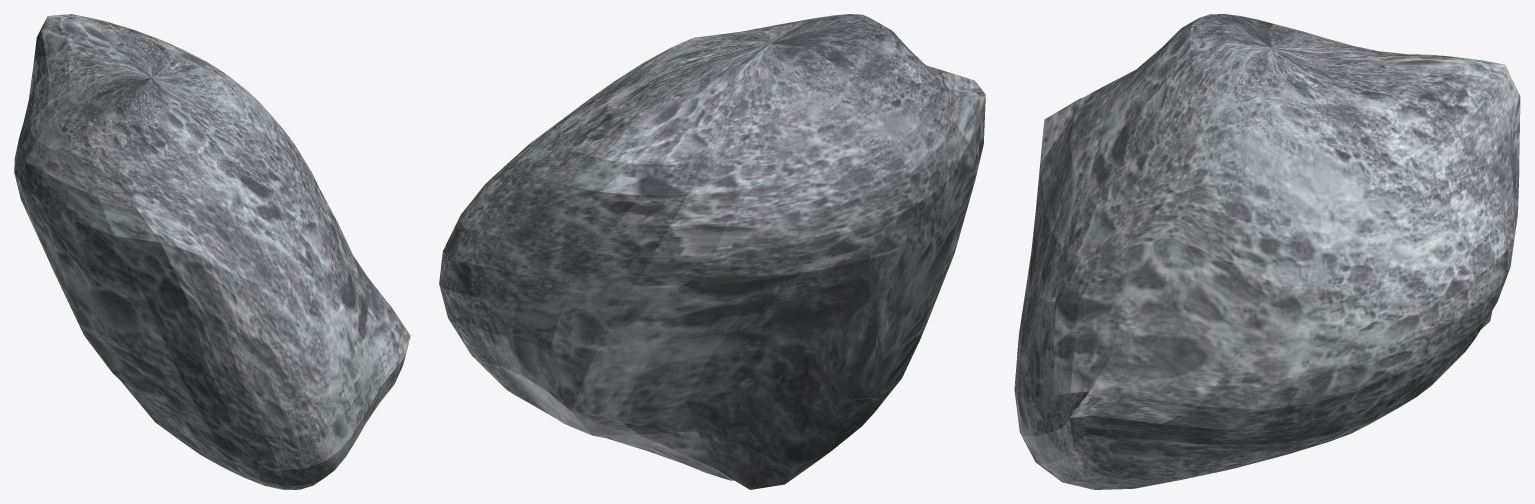
The model's file is rock4.glb.
3 views of the same model, side by side, from view 1: azimuth 30°, elevation 25°; view 2: azimuth 150°, elevation 25°; view 3: azimuth 270°, elevation 25° (orthographic). The views are drawn at different scales.
Visible parts, largest first — view 1: Sphere; view 2: Sphere; view 3: Sphere.
Part boxes in pixels (x1=…): Sphere: x1=14, y1=14, x2=410, y2=489; Sphere: x1=439, y1=14, x2=985, y2=489; Sphere: x1=1014, y1=14, x2=1520, y2=489.
Size of the model in its own units: 16.89 by 19.55 by 21.68.
1 material, 1 textured.
